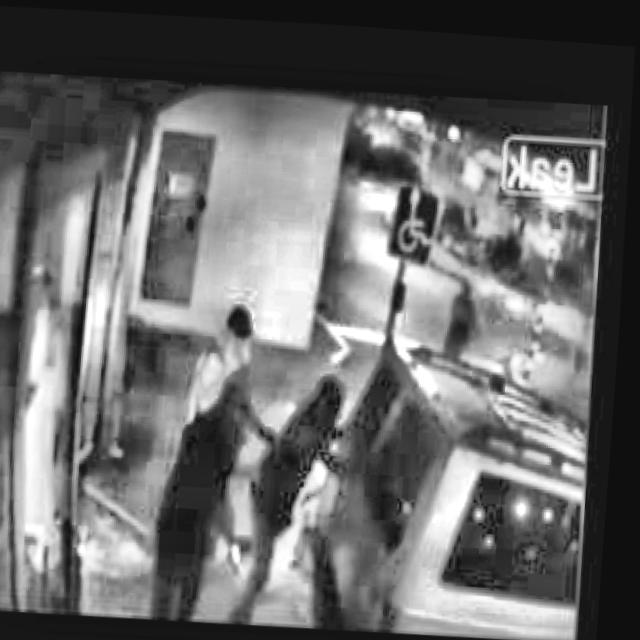burglary: (0, 249, 503, 636)
